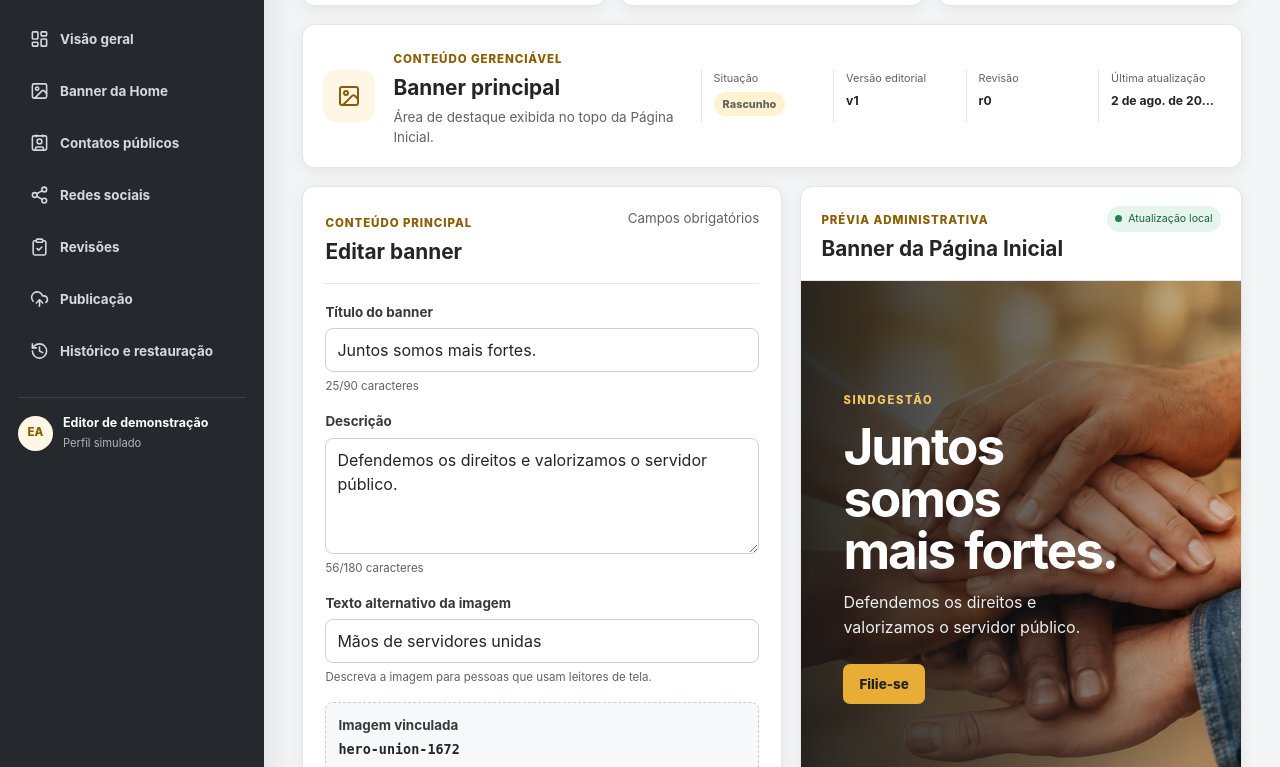
Test case: HomeManagementPage › simulates saving a draft only in repository memory
(page scrolled)
In the field labelled "Título do banner 25/90 caracteres": {"x": 542, "y": 350} [325,328,759,372], type " atualizado"
(page scrolled)
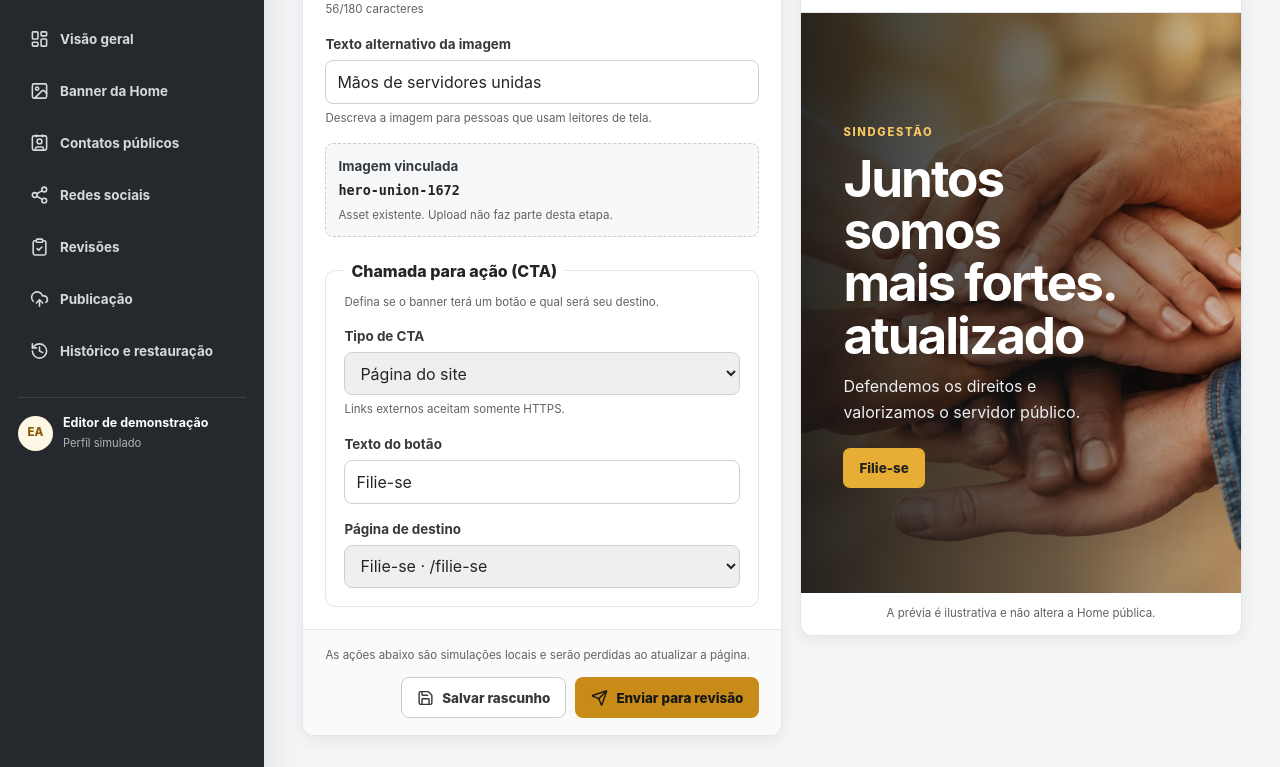
Click the button "Salvar rascunho": {"x": 484, "y": 698} [401,677,566,718]
(page scrolled)
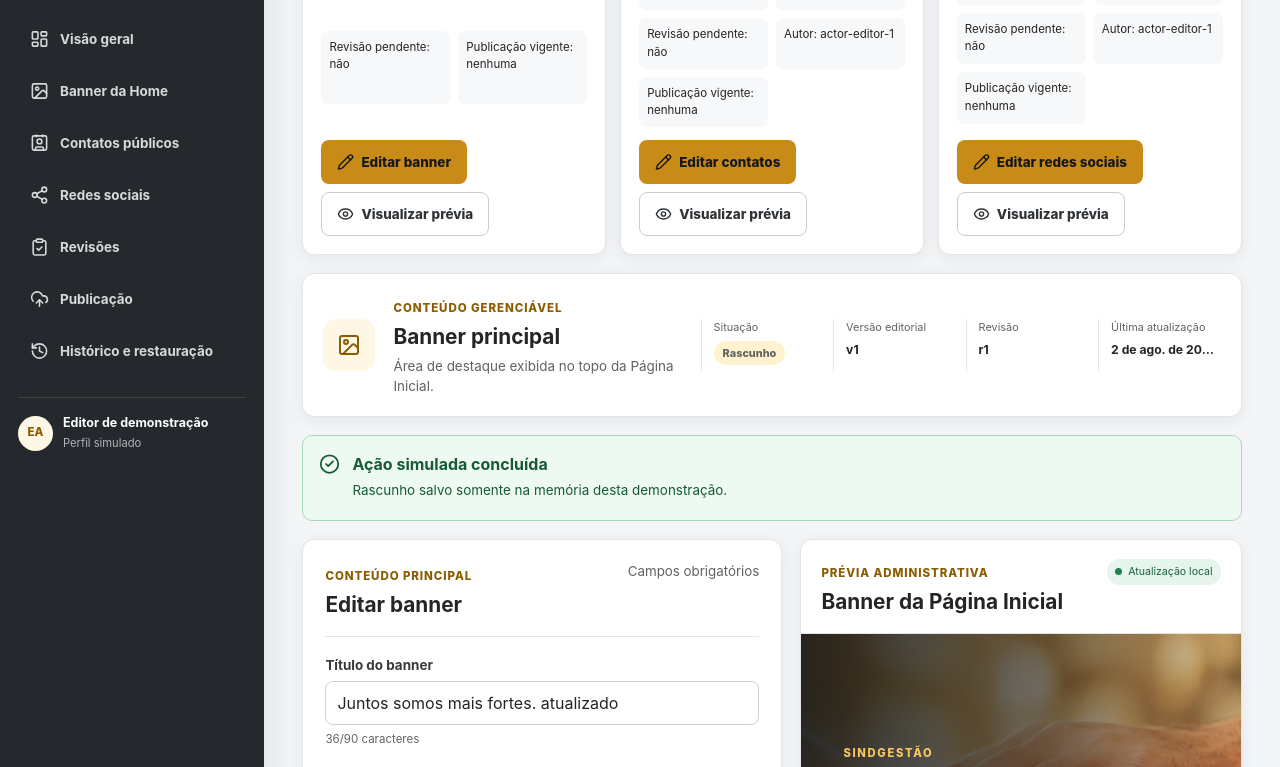
Now the text "Rascunho salvo somente na memória desta demonstração." is shown, box [352,480,727,500]
Now the text "r1" is shown, box [979,342,989,357]
